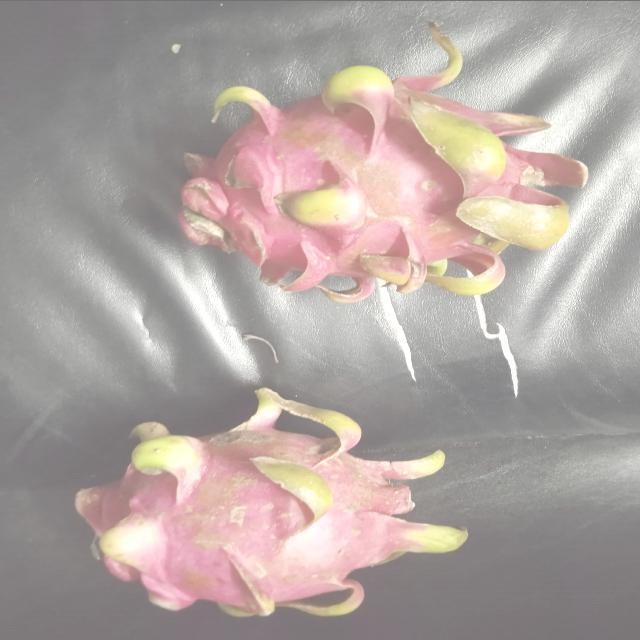do: (171, 35, 588, 302), (66, 386, 472, 615)
